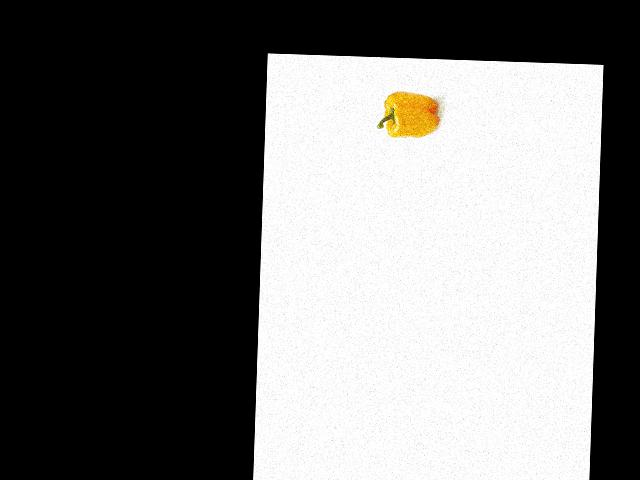bell_pepper: (374, 90, 440, 144)
